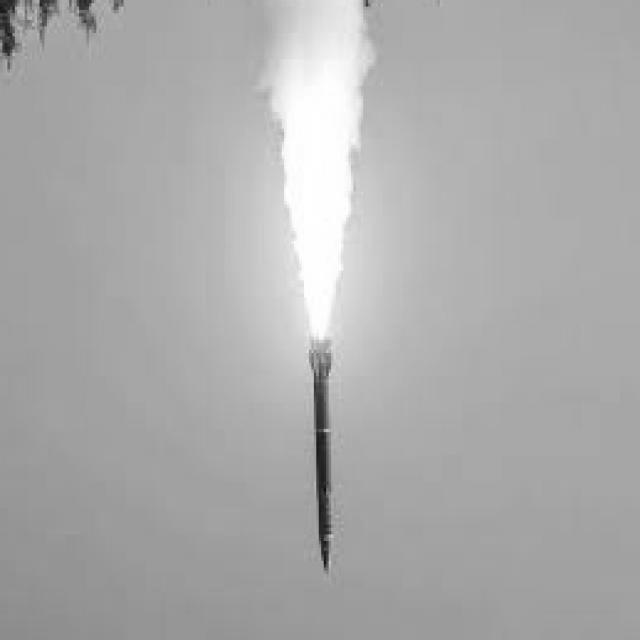Missile: (303, 329, 335, 579)
